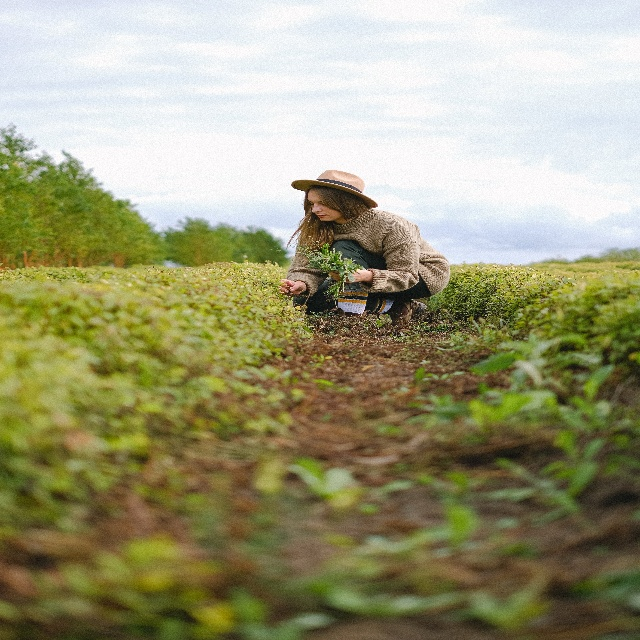Sin_guantes: (329, 262, 365, 283), (277, 277, 306, 297)
